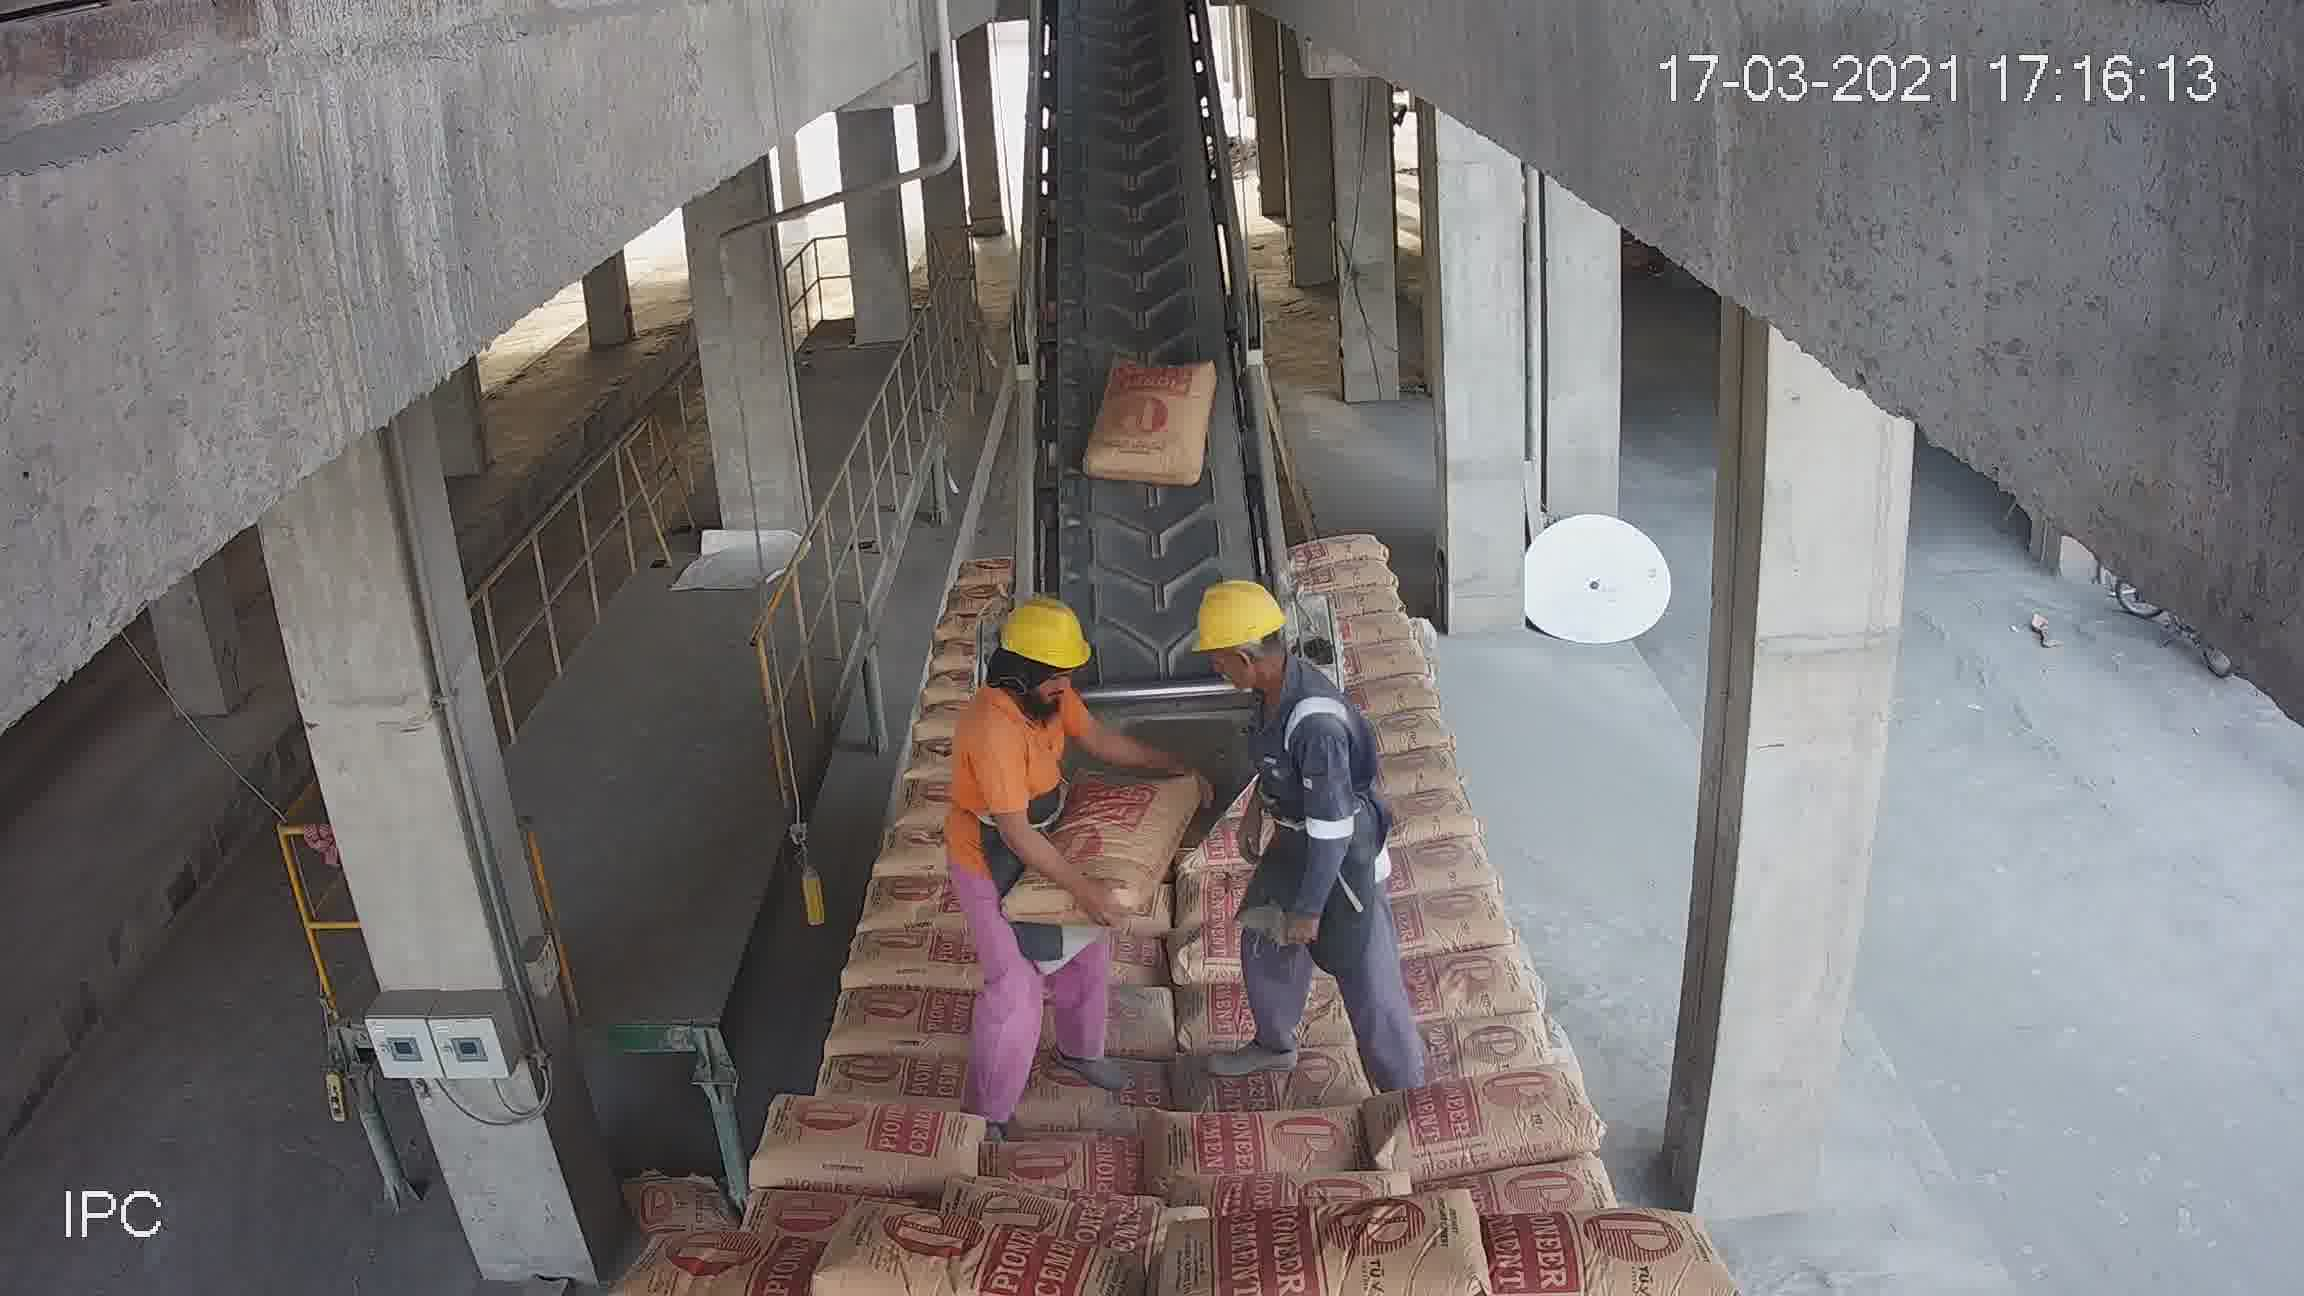bag: (992, 771, 1196, 916), (1082, 362, 1215, 489)
bag_h: (1190, 1182, 1514, 1294), (1362, 1067, 1605, 1188), (748, 1100, 994, 1196), (1446, 1206, 1701, 1294), (809, 1223, 1117, 1296), (1152, 1105, 1378, 1199), (1173, 1036, 1358, 1119), (633, 1225, 851, 1294), (813, 1035, 983, 1112), (1421, 989, 1556, 1086), (1400, 934, 1532, 1025), (987, 1131, 1161, 1199), (832, 984, 983, 1062), (1393, 870, 1502, 961), (845, 929, 980, 995), (1377, 831, 1500, 897), (1378, 772, 1484, 847), (1377, 742, 1470, 805), (1366, 688, 1451, 755), (1279, 525, 1396, 570), (1296, 559, 1397, 597)
belt: (980, 40, 1279, 820)
